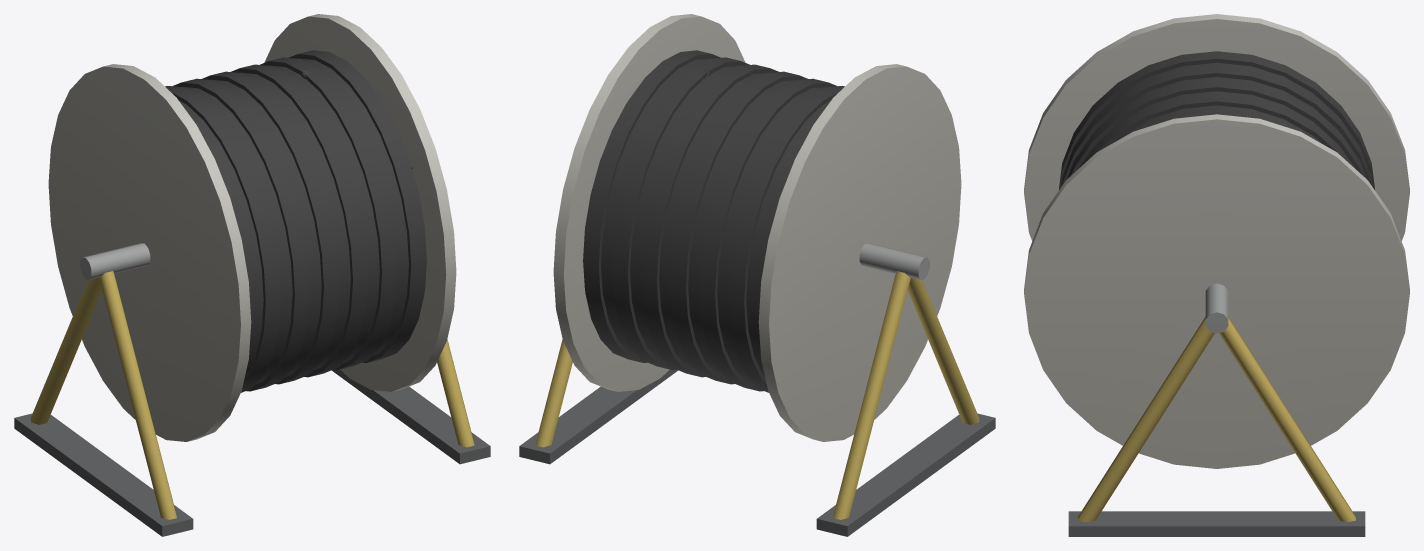
Rendered from cable_drum.glb.
The picture shows the model from 3 angles, left to right: view 1: azimuth 30°, elevation 25°; view 2: azimuth 150°, elevation 25°; view 3: azimuth 270°, elevation 25°; orthographic projection.
Parts seen in each view (by area): view 1: cable_drum; view 2: cable_drum; view 3: cable_drum.
Boxes of the visible parts, x1,y1,x2,y2 form: cable_drum: (14, 14, 490, 536); cable_drum: (519, 14, 995, 536); cable_drum: (1024, 14, 1409, 536).
Bounding box in the file's own units: 1.3 × 1.45 × 1.3.
